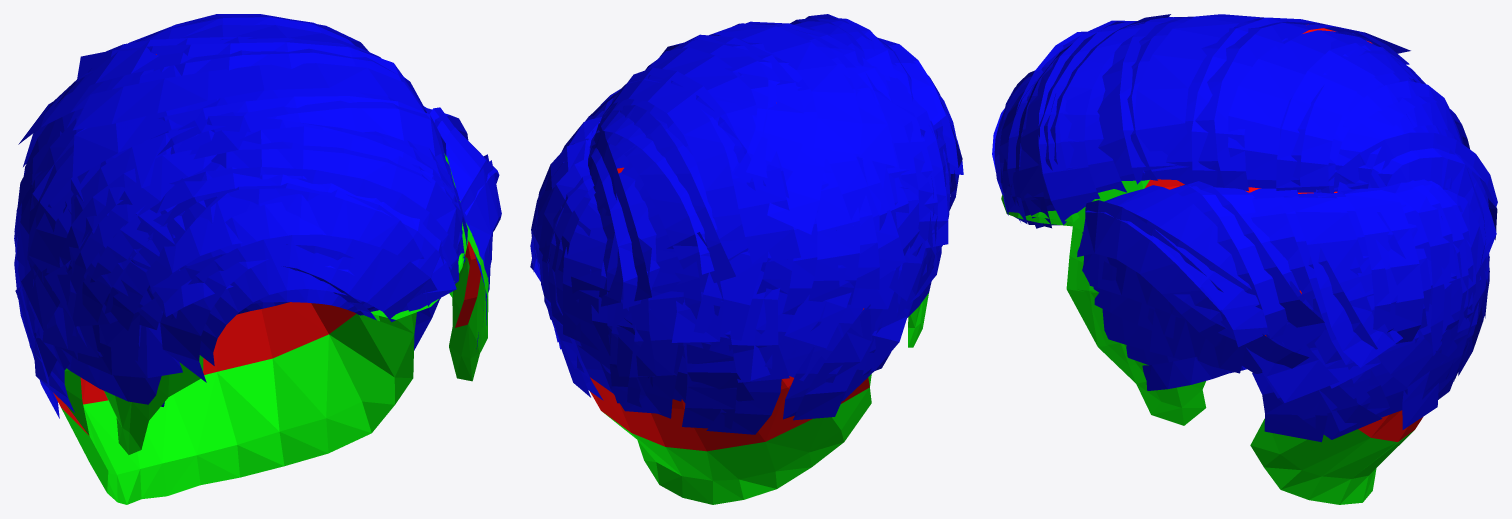
Rendered from hair_002.obj.
3 views of the same model, side by side, from view 1: azimuth 30°, elevation 25°; view 2: azimuth 150°, elevation 25°; view 3: azimuth 270°, elevation 25° (orthographic). The views are drawn at different scales.
Size of the model in its own units: 19.67 by 21.43 by 21.85.
